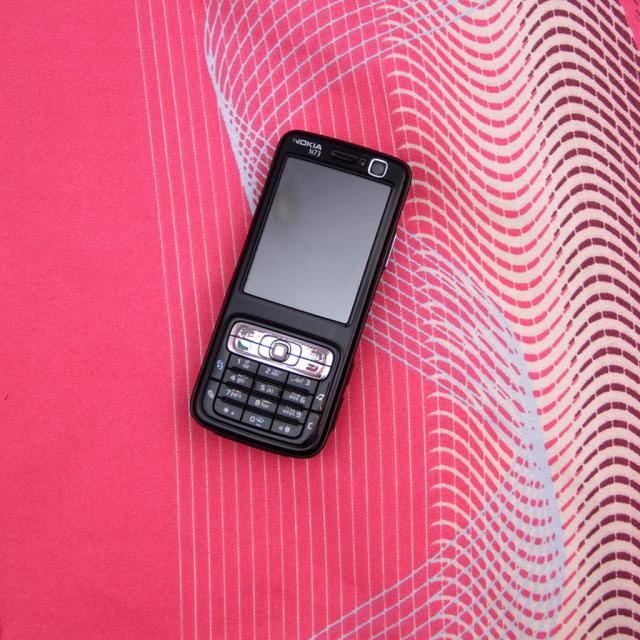Phone: (182, 127, 414, 462)
